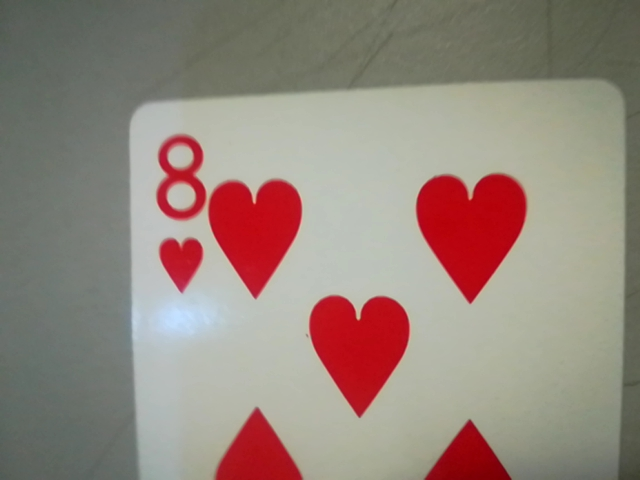hx 8: (137, 113, 216, 305)
